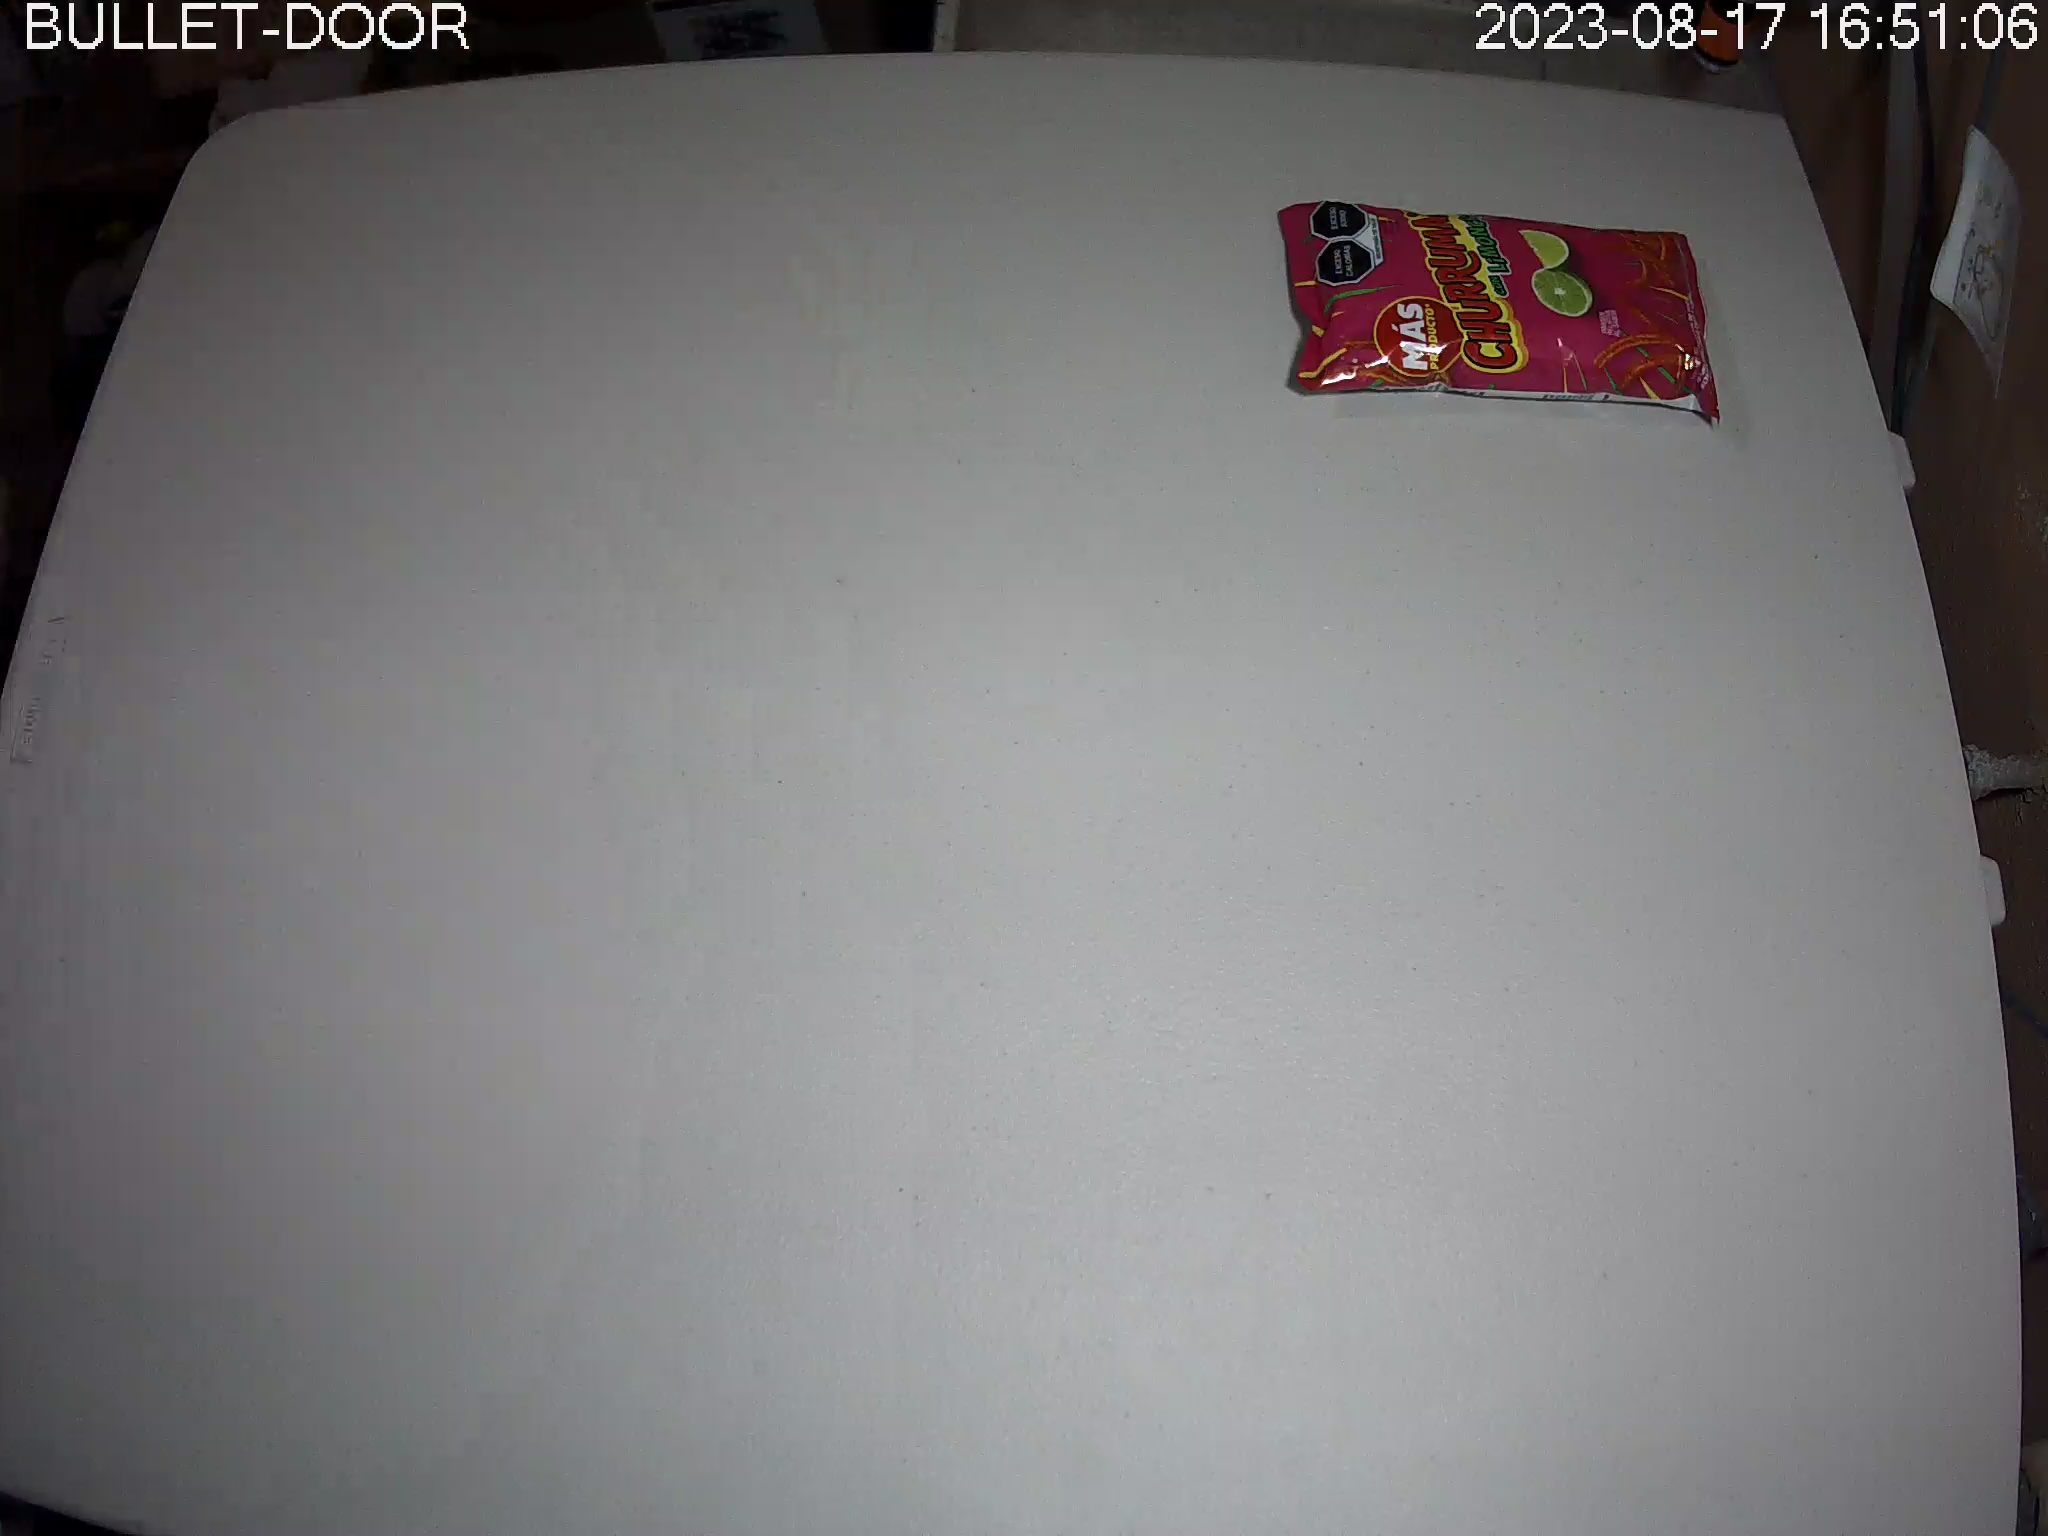Churrumais_70_F: (1277, 202, 1725, 431)
